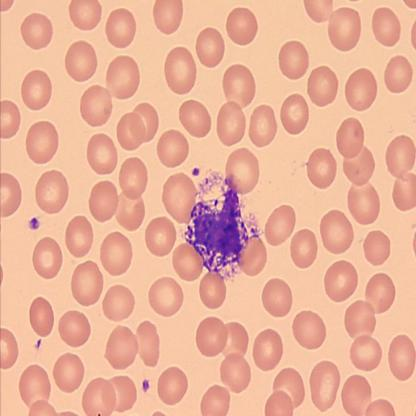Basophil: (181, 186, 257, 278)
